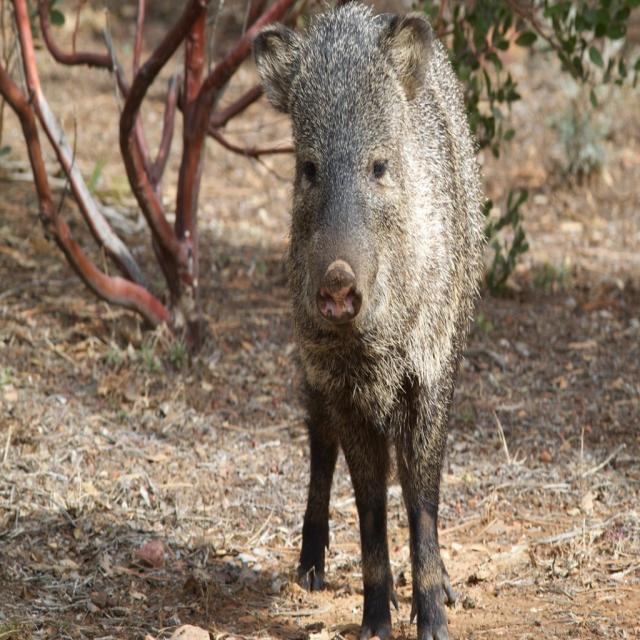Pig: (248, 0, 492, 640)
